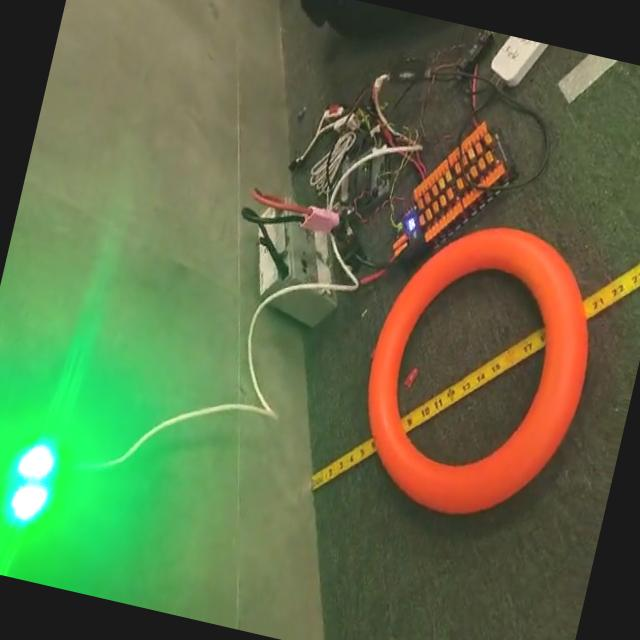note: (339, 205, 616, 544)
